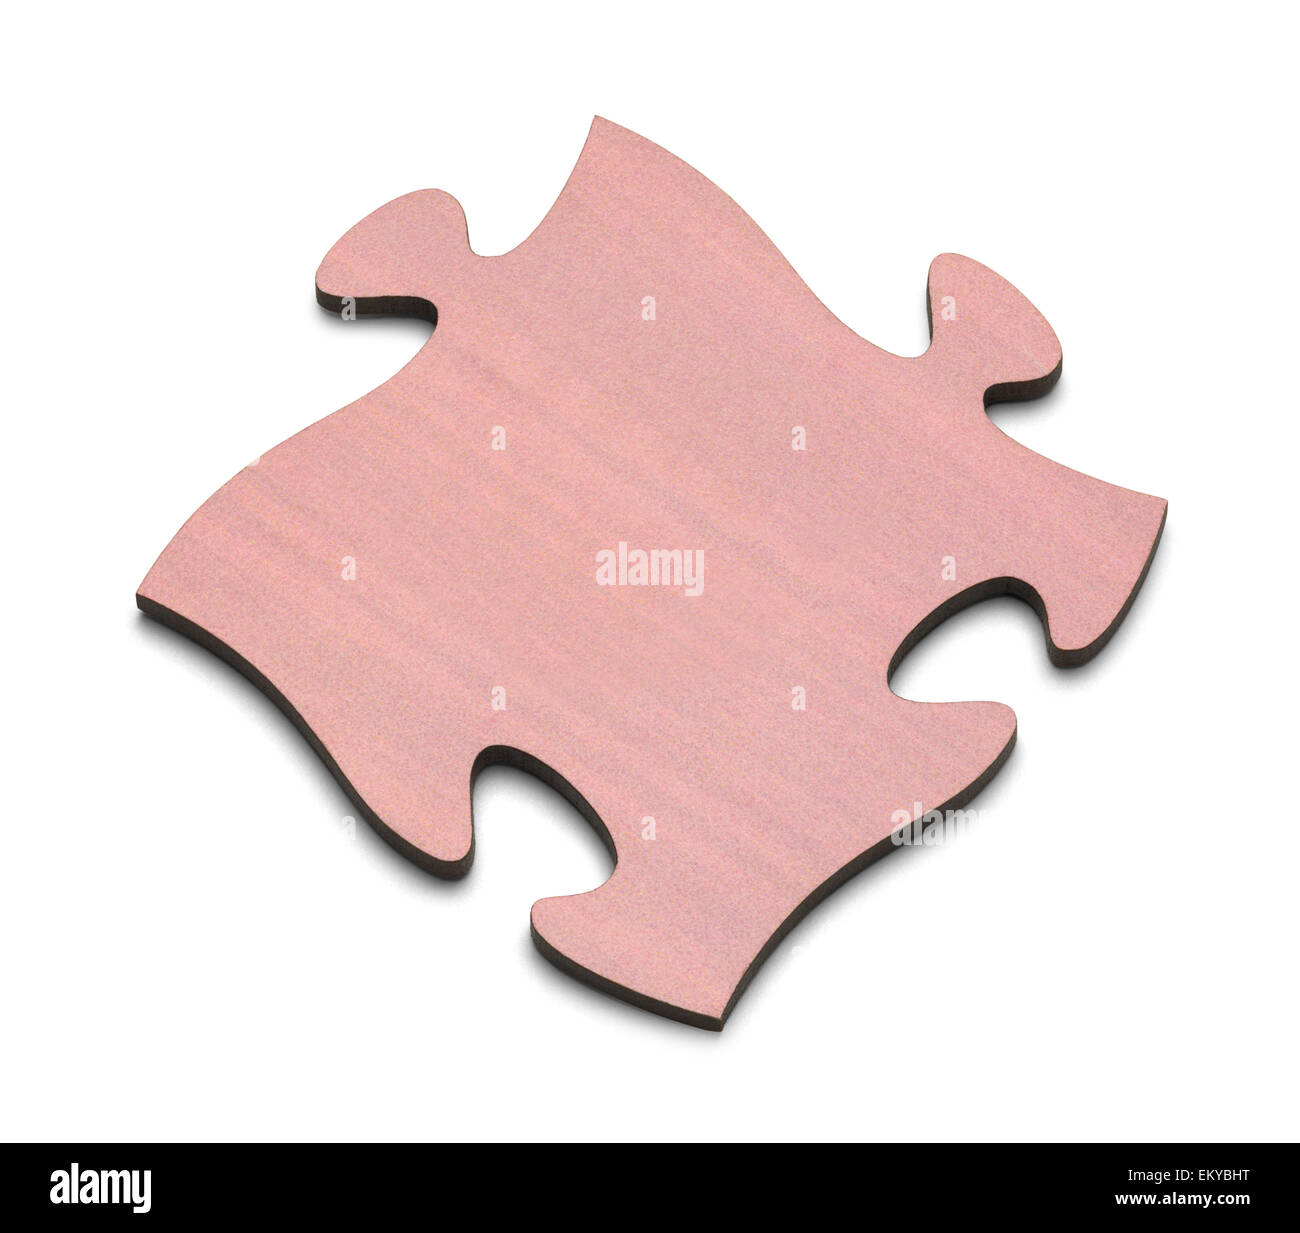puzzle piece: (114, 70, 1219, 1038)
